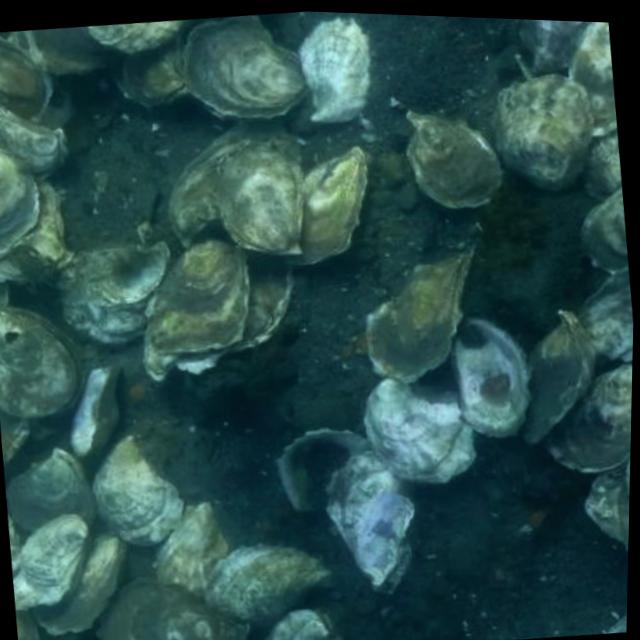Oyster-Closed: (143, 248, 292, 381), (183, 14, 308, 121), (539, 363, 632, 475), (0, 306, 85, 418)
Oyster-Indeterminate: (365, 224, 480, 378), (169, 118, 302, 247), (148, 222, 249, 353), (328, 449, 416, 593), (362, 378, 475, 485), (60, 240, 171, 346), (496, 74, 593, 191), (92, 434, 184, 546), (204, 543, 330, 623), (284, 146, 368, 266), (216, 140, 303, 254), (522, 309, 594, 442), (34, 534, 128, 633), (407, 112, 503, 208), (97, 580, 249, 640), (299, 14, 379, 124), (0, 175, 73, 283), (12, 515, 89, 611), (7, 448, 96, 530), (155, 502, 229, 598), (109, 26, 188, 104), (568, 22, 617, 136), (579, 268, 633, 366), (0, 105, 70, 180), (24, 26, 123, 75), (0, 38, 53, 121), (0, 147, 39, 258), (520, 19, 595, 74), (580, 188, 628, 272), (87, 19, 185, 54), (584, 475, 630, 548), (584, 129, 622, 200), (267, 609, 342, 640), (0, 408, 30, 467), (293, 619, 332, 640), (15, 610, 39, 640), (8, 30, 32, 56), (0, 283, 8, 307)
